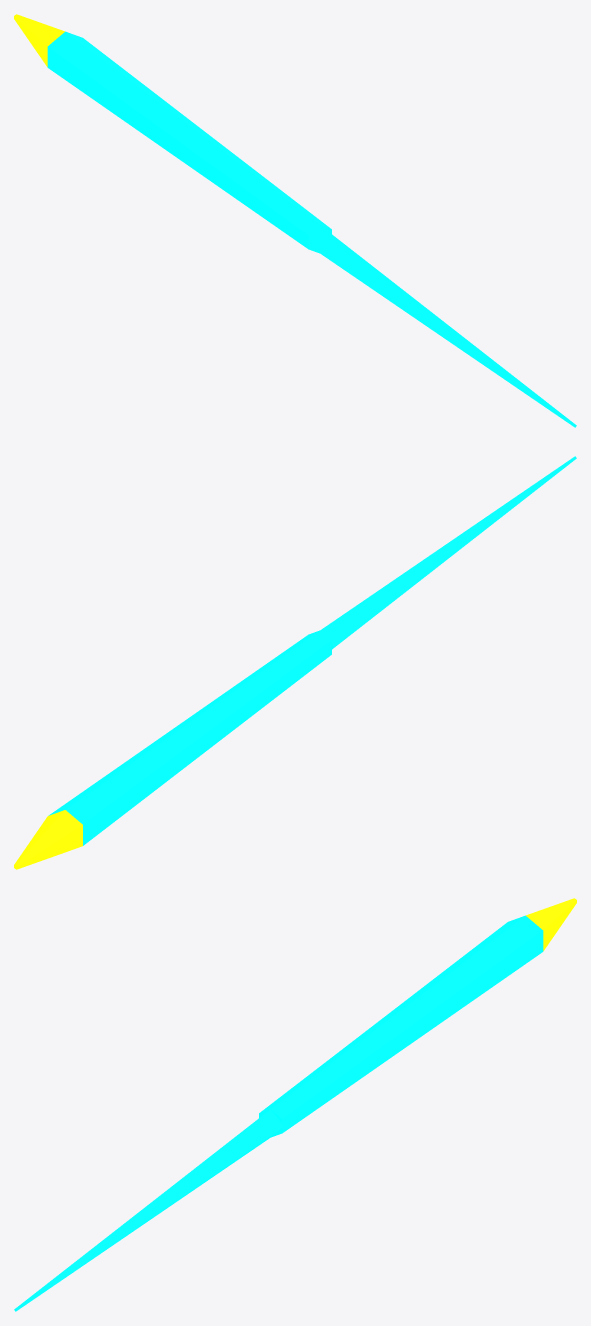
Rendered from Proj_SMGTracer.fbx.
3 views of the same model, one above another, from view 1: azimuth 30°, elevation 25°; view 2: azimuth 150°, elevation 25°; view 3: azimuth 330°, elevation 25° (orthographic).
Parts seen in each view (by area): view 1: Tracer_Core, Tracer_Trail, Tracer_Tip; view 2: Tracer_Core, Tracer_Trail, Tracer_Tip; view 3: Tracer_Core, Tracer_Trail, Tracer_Tip.
Boxes of the visible parts, box(x1,y1,x2,y2) form: Tracer_Core: box(47, 31, 331, 253); Tracer_Trail: box(307, 225, 576, 427); Tracer_Tip: box(14, 14, 64, 66); Tracer_Core: box(48, 630, 331, 845); Tracer_Trail: box(320, 456, 576, 649); Tracer_Tip: box(14, 810, 82, 869); Tracer_Core: box(259, 915, 543, 1137); Tracer_Trail: box(14, 1109, 283, 1311); Tracer_Tip: box(526, 898, 576, 950).
Bounding box in the file's own units: 0.0104 × 0.012 × 0.285.
